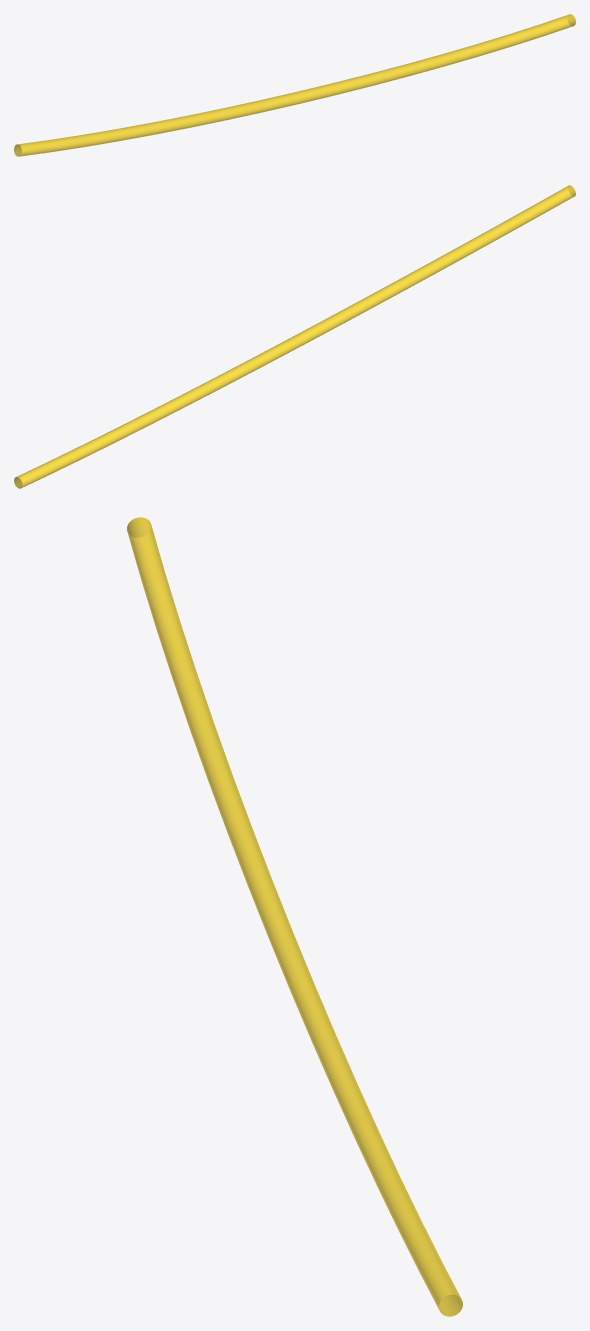
The model's file is Event_100608114_track_132.fbx.
3 views of the same model, one above another, from view 1: azimuth 30°, elevation 25°; view 2: azimuth 210°, elevation 25°; view 3: azimuth 270°, elevation 25° (orthographic). The views are drawn at different scales.
Visible parts, largest first — view 1: Model; view 2: Model; view 3: Model.
Boxes of the visible parts, x1,y1,x2,y2 form: Model: [14, 14, 575, 156]; Model: [14, 185, 575, 488]; Model: [127, 517, 462, 1316].
Bounding box in the file's own units: 2.34 × 0.3246 × 0.5372.
